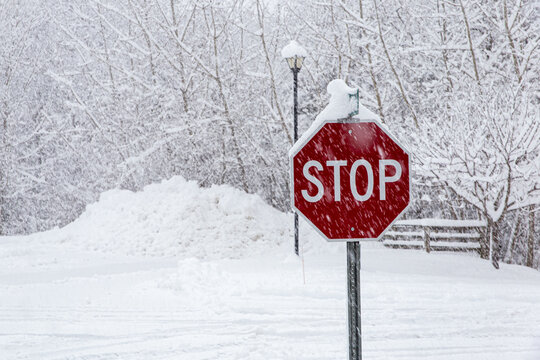StopSign: (287, 118, 411, 242)
